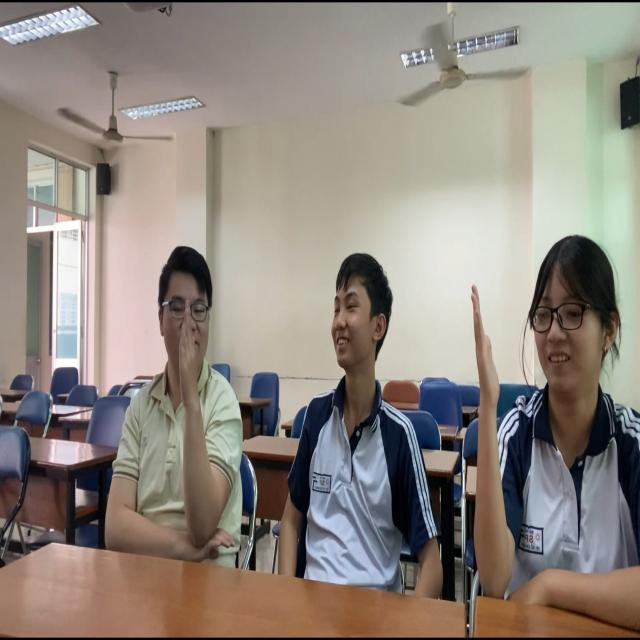raise_hand: (456, 219, 640, 640), (102, 235, 242, 562)
